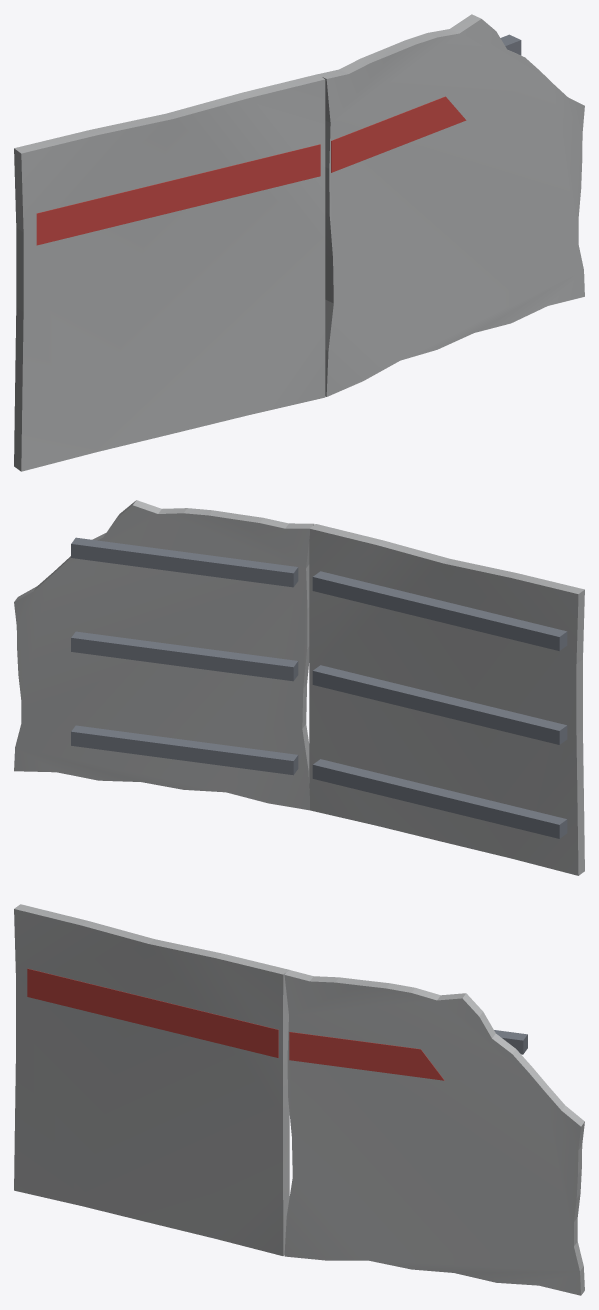
File: facility_panel_krei.glb
3 renders of one model, top to bottom at view 1: azimuth 30°, elevation 25°; view 2: azimuth 150°, elevation 25°; view 3: azimuth 330°, elevation 25°, orthographic. The views are drawn at different scales.
Visible parts, largest first — view 1: facility_panel_krei; view 2: facility_panel_krei; view 3: facility_panel_krei.
Part boxes in pixels (left/top/right/bottom): facility_panel_krei: left=14, top=14, right=584, bottom=471; facility_panel_krei: left=14, top=500, right=584, bottom=875; facility_panel_krei: left=14, top=904, right=584, bottom=1295.
Size of the model in its own units: 2.38 by 1.2 by 0.3173.
